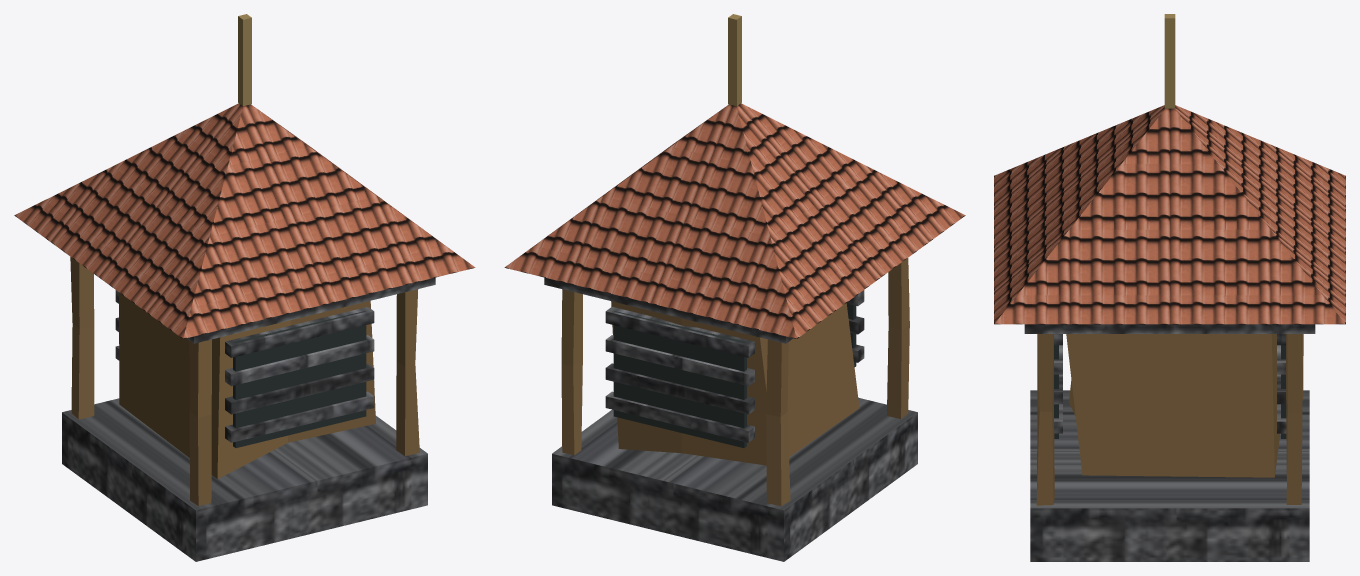
File: town_Cupola_guild.glb
3 views of the same model, side by side, from view 1: azimuth 30°, elevation 25°; view 2: azimuth 150°, elevation 25°; view 3: azimuth 270°, elevation 25° (orthographic). The views are drawn at different scales.
Parts seen in each view (by area): view 1: town_Cupola_guild.005; view 2: town_Cupola_guild.005; view 3: town_Cupola_guild.005.
Boxes of the visible parts, x1,y1,x2,y2 form: town_Cupola_guild.005: [14, 14, 475, 561]; town_Cupola_guild.005: [504, 14, 965, 561]; town_Cupola_guild.005: [994, 14, 1345, 561].
Size of the model in its own units: 1.84 by 2.81 by 1.84.
3 materials, 2 textured.
